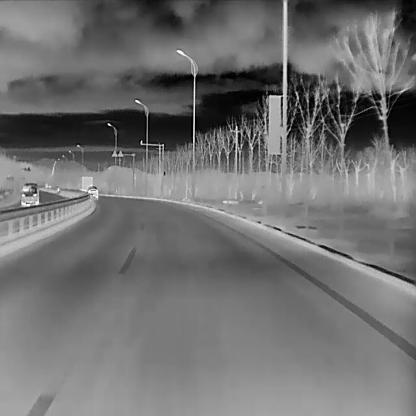car: (19, 182, 38, 207), (79, 176, 93, 192), (86, 186, 97, 199)
